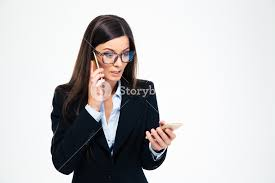phone: (91, 50, 106, 97)
talk: (88, 47, 130, 107)
